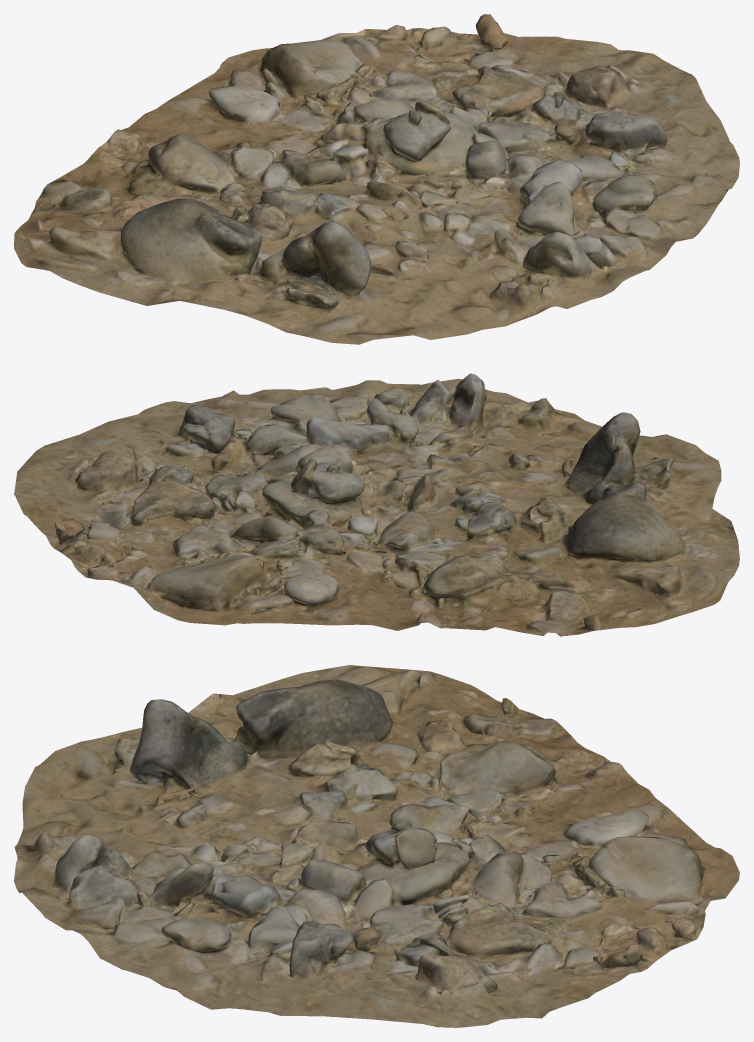
Rendered from sand_rocks_small_01.glb.
3 renders of one model, top to bottom at view 1: azimuth 30°, elevation 25°; view 2: azimuth 150°, elevation 25°; view 3: azimuth 270°, elevation 25°, orthographic. The views are drawn at different scales.
Visible parts, largest first — view 1: sand_rocks_small_01_LOD0; view 2: sand_rocks_small_01_LOD0; view 3: sand_rocks_small_01_LOD0.
Boxes of the visible parts, box(x1,y1,x2,y2) form: sand_rocks_small_01_LOD0: box(14, 14, 739, 344); sand_rocks_small_01_LOD0: box(14, 373, 739, 636); sand_rocks_small_01_LOD0: box(14, 665, 739, 1027).
Bounding box in the file's own units: 4.63 × 0.5342 × 3.88.
1 material, 1 textured.
